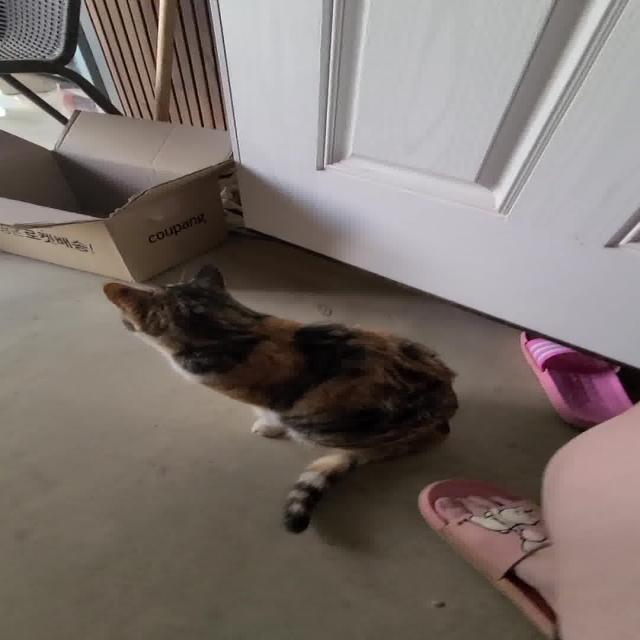cat: (92, 257, 466, 533)
